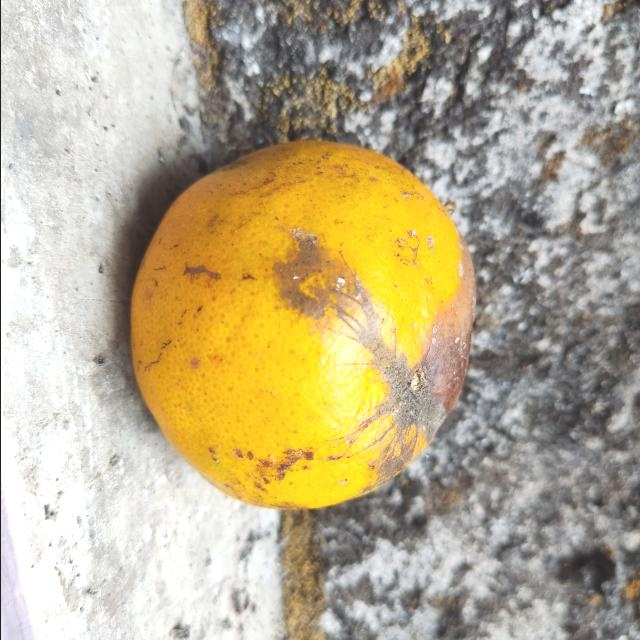agrume: (131, 139, 477, 513)
